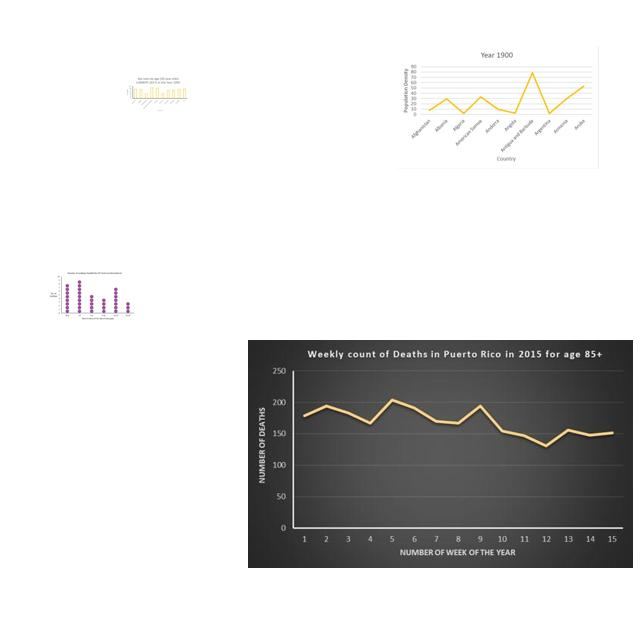Graph: (248, 340, 633, 568), (396, 46, 599, 169), (47, 270, 136, 322), (125, 76, 188, 112)
